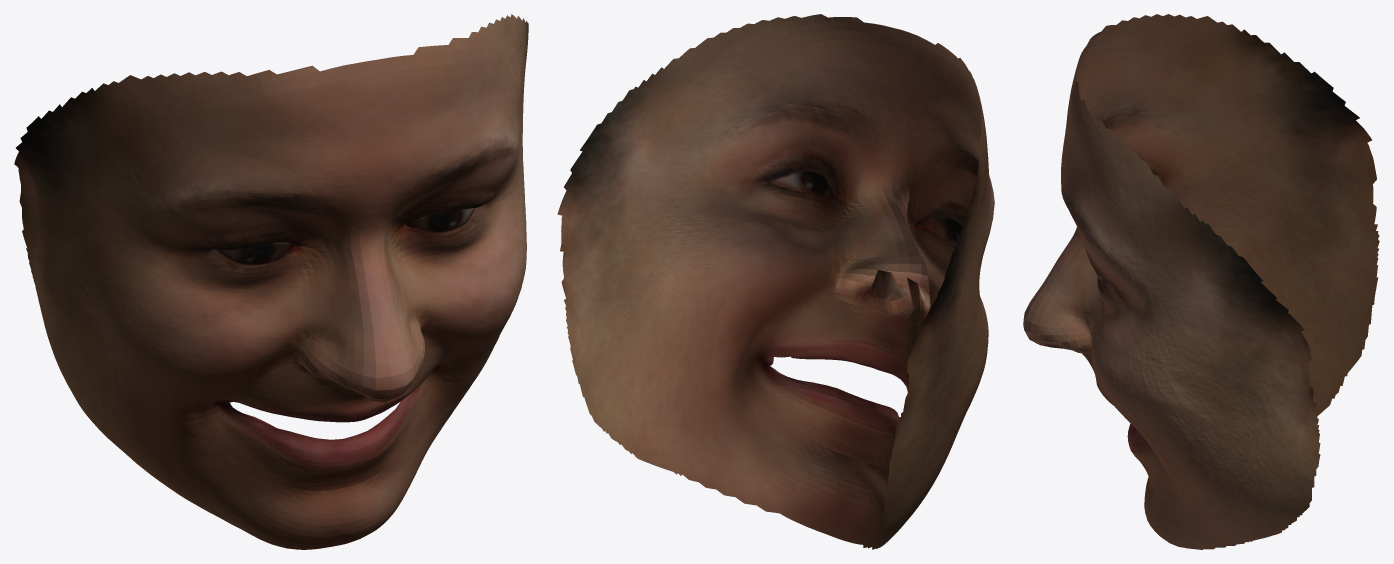
File: girl_mm.obj
3 views of the same model, side by side, from view 1: azimuth 30°, elevation 25°; view 2: azimuth 150°, elevation 25°; view 3: azimuth 270°, elevation 25° (orthographic). The views are drawn at different scales.
Size of the model in its own units: 1.51 by 1.68 by 1.16.
